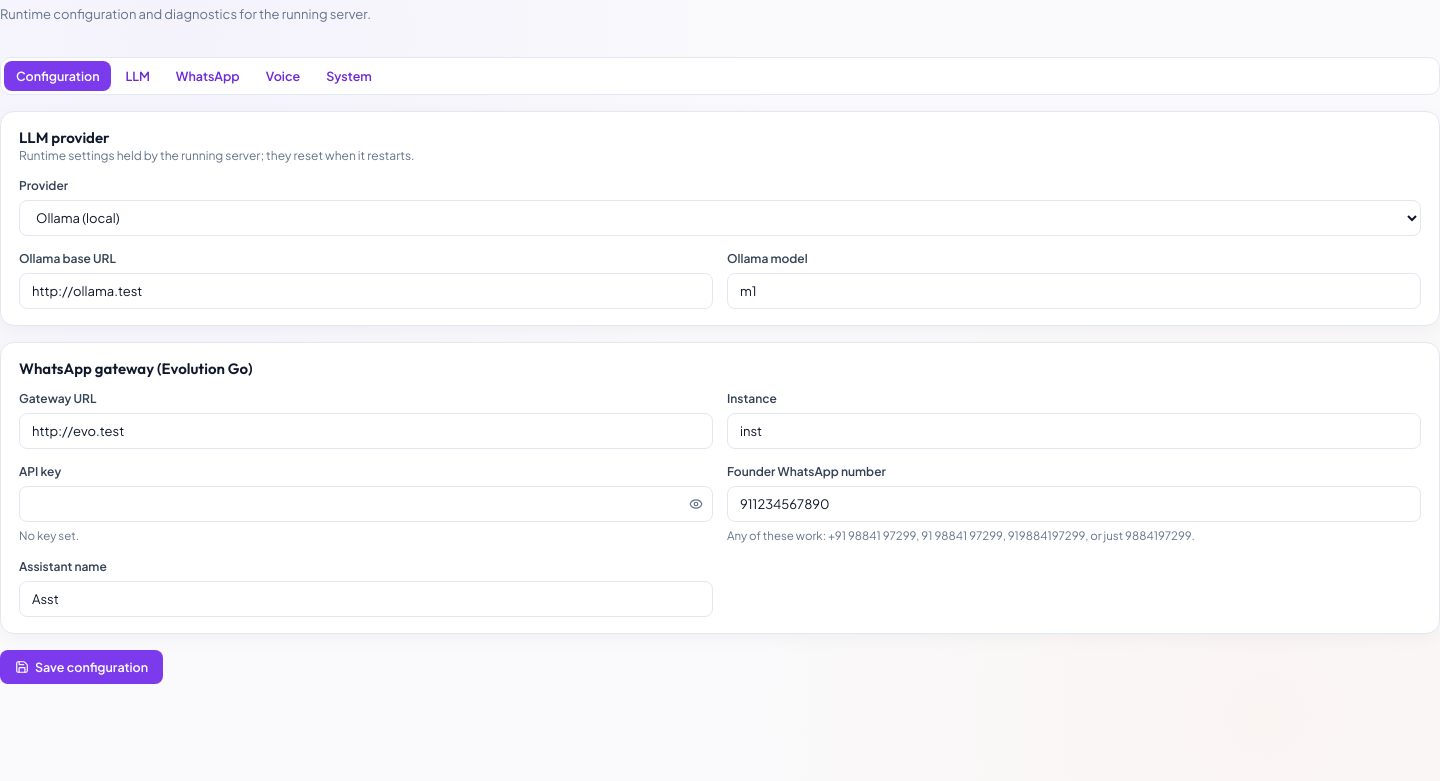
it: DevConsoleView › llm tab › streams tokens
This screenshot has width=1440, height=781.
Click the tab "LLM": x=138, y=76 [114, 60, 162, 90]
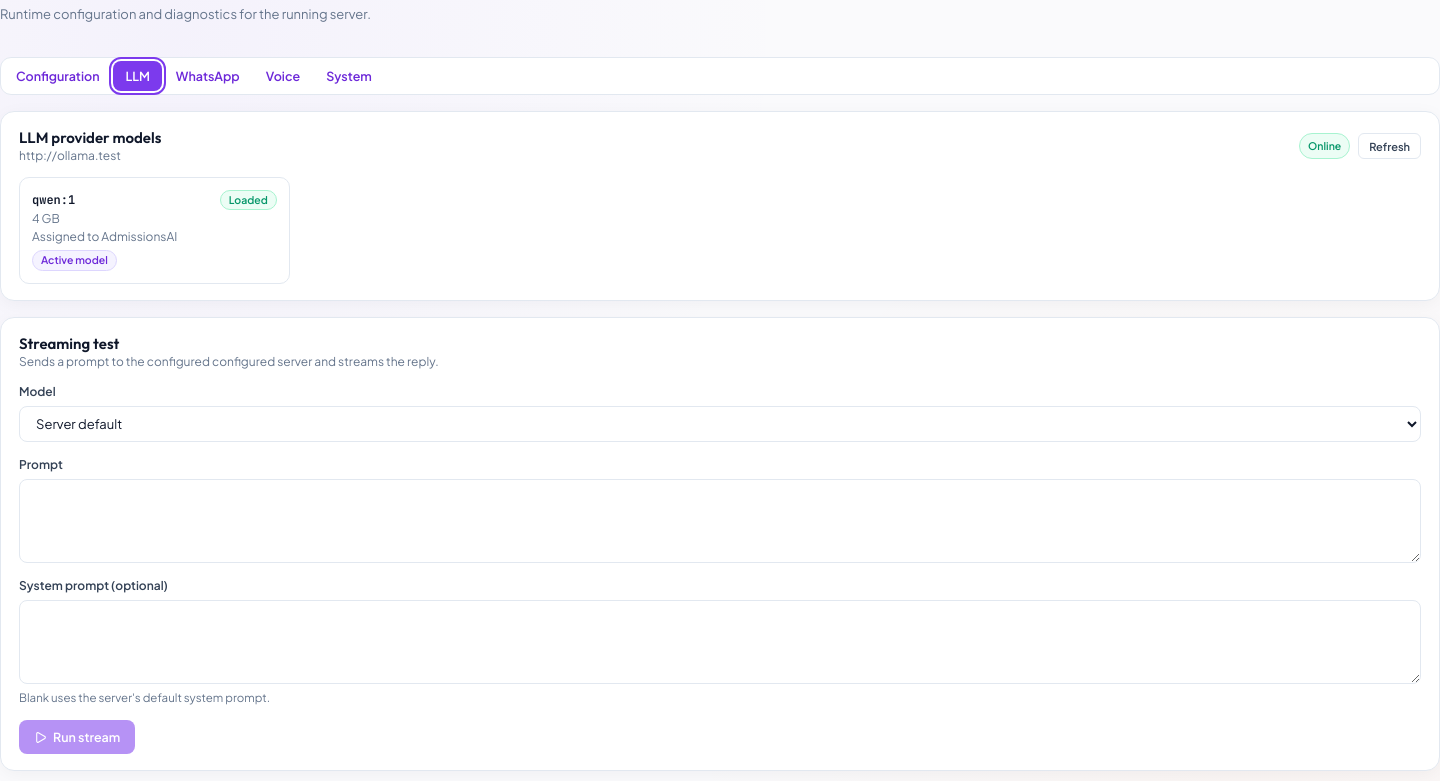
In the text box labelled "Prompt": x=720, y=521 [19, 479, 1421, 563], type "hi"
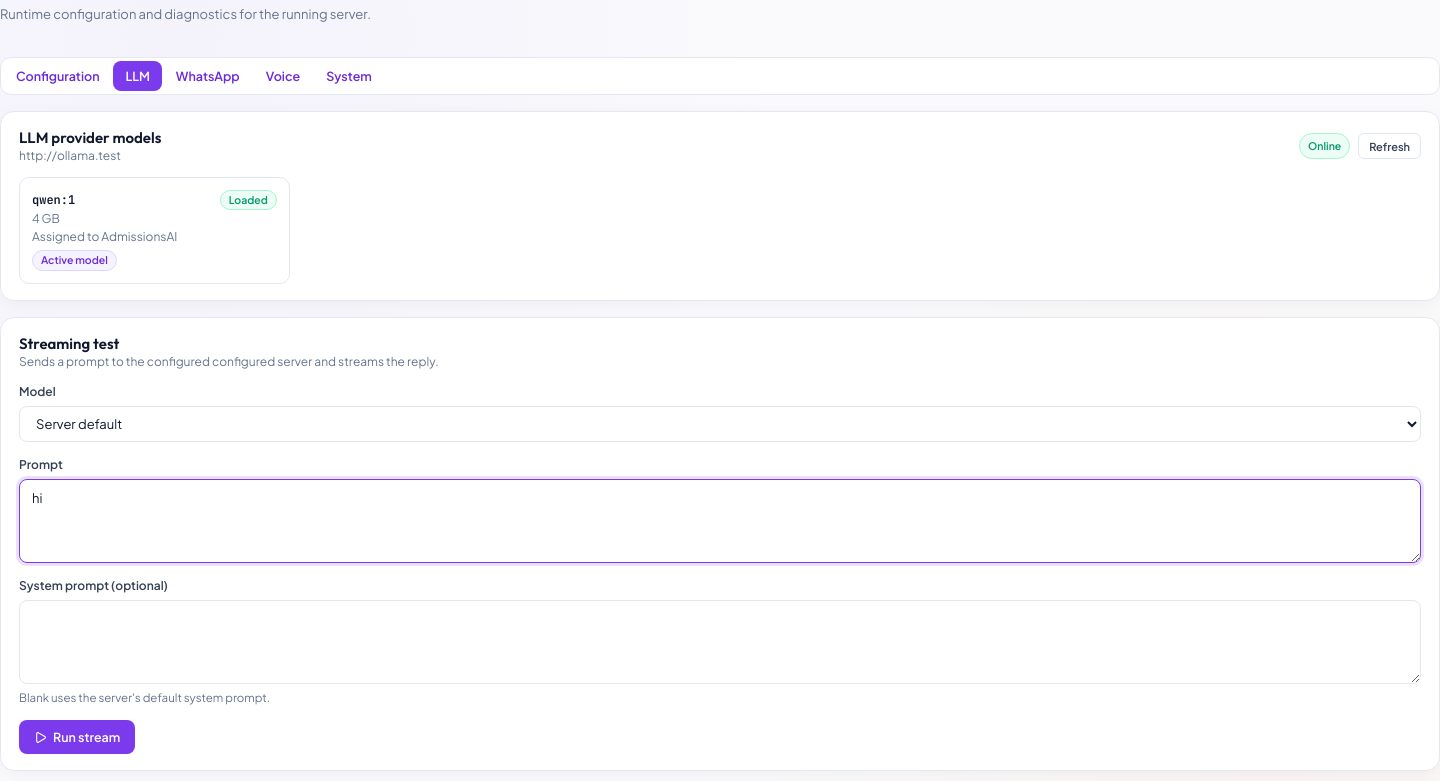
Click the button "Run stream": x=77, y=737 [19, 720, 135, 754]
(page scrolled)
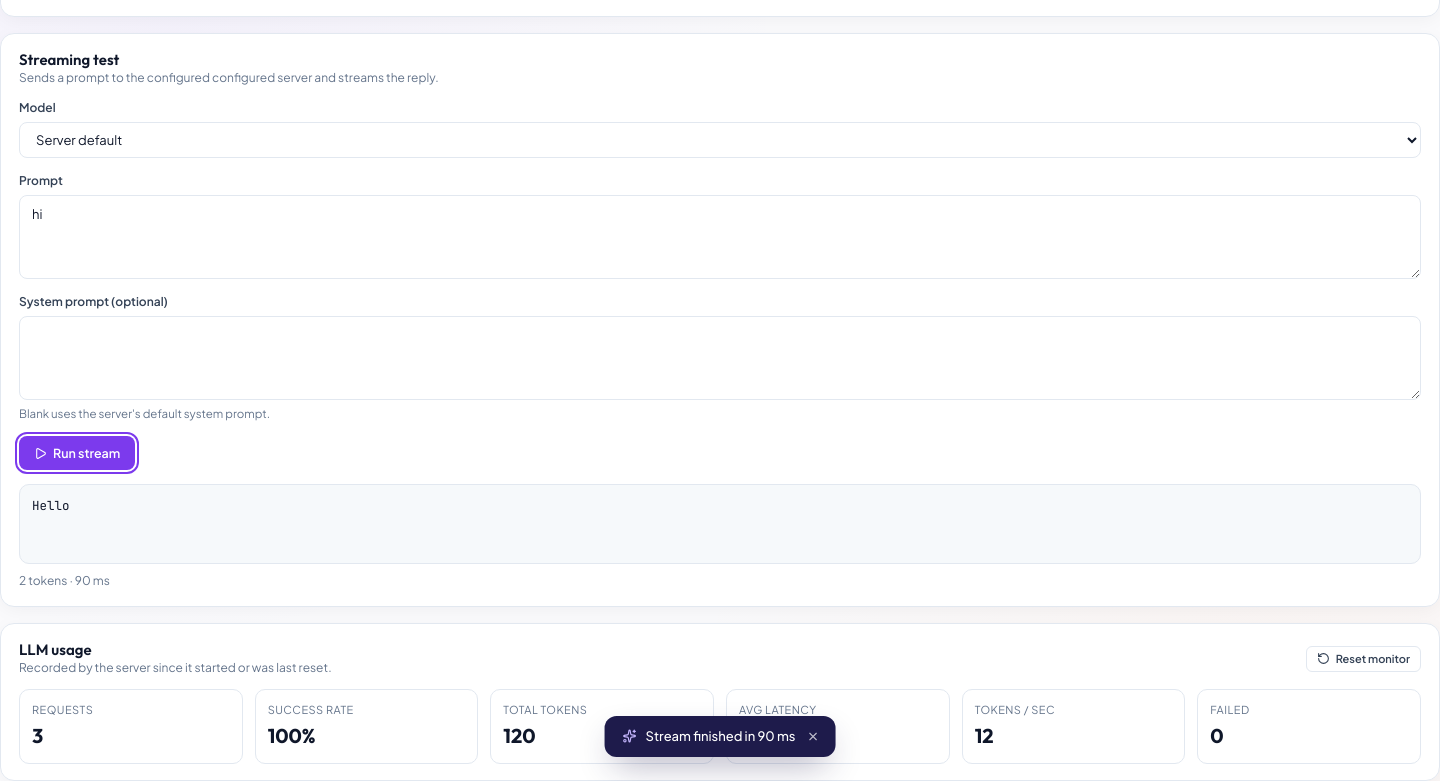
Expected: the text named "Model output" reads "Hello", [32, 497, 70, 514]
Expected: the text "2 tokens · 90 ms" is shown, [19, 573, 110, 588]
